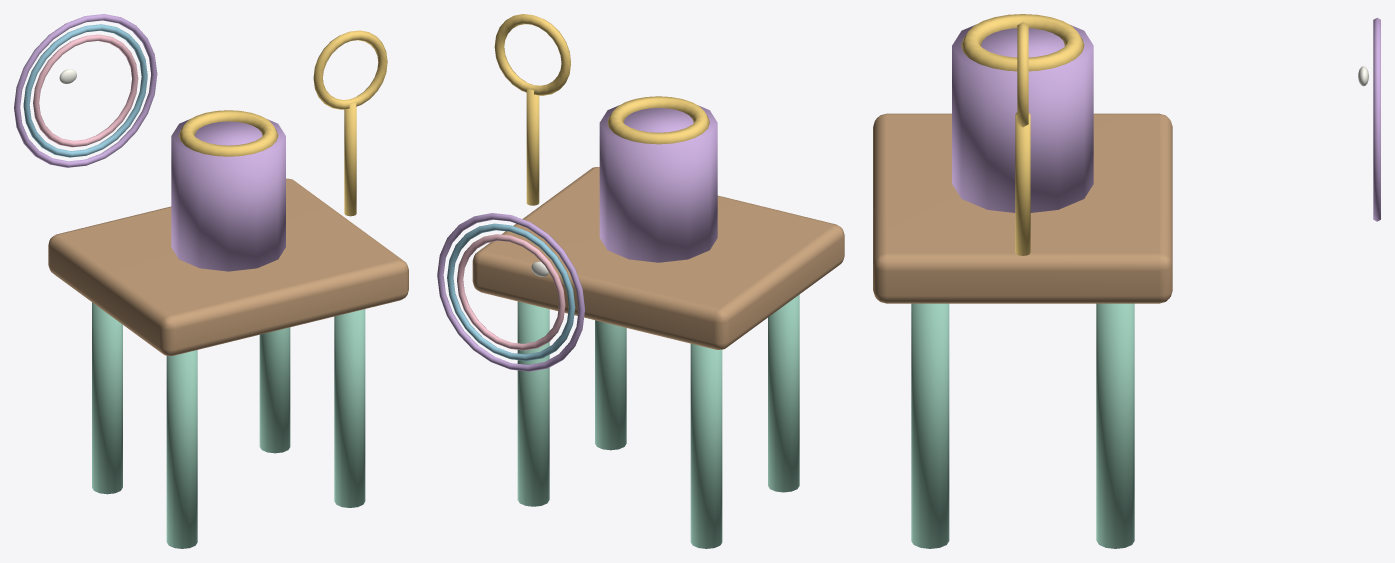
File: play-bubbles.glb
The picture shows the model from 3 angles, left to right: view 1: azimuth 30°, elevation 25°; view 2: azimuth 150°, elevation 25°; view 3: azimuth 270°, elevation 25°; orthographic projection. The views are drawn at different scales.
Visible parts, largest first — view 1: Scenery surfaces, Bottle surfaces, Wand surfaces, Bubble2 surfaces, Bubble1 surfaces, Bubble0 surfaces; view 2: Scenery surfaces, Bottle surfaces, Wand surfaces, Bubble2 surfaces, Bubble1 surfaces, Bubble0 surfaces; view 3: Scenery surfaces, Bottle surfaces, Wand surfaces, Bubble2 surfaces.
Part boxes in pixels (<box>): Scenery surfaces: <box>48,178,408,548</box>; Bottle surfaces: <box>171,110,285,271</box>; Wand surfaces: <box>313,30,387,216</box>; Bubble2 surfaces: <box>14,14,157,167</box>; Bubble1 surfaces: <box>23,24,147,157</box>; Bubble0 surfaces: <box>33,34,138,147</box>; Scenery surfaces: <box>472,167,844,548</box>; Bottle surfaces: <box>599,96,717,262</box>; Wand surfaces: <box>494,14,570,205</box>; Bubble2 surfaces: <box>437,213,584,371</box>; Bubble1 surfaces: <box>447,223,575,361</box>; Bubble0 surfaces: <box>457,234,565,350</box>; Scenery surfaces: <box>873,113,1172,548</box>; Bottle surfaces: <box>952,14,1093,212</box>; Wand surfaces: <box>1015,22,1030,255</box>; Bubble2 surfaces: <box>1373,18,1380,221</box>.
Bounding box in the file's own units: 0.742 × 1.09 × 0.9319.
